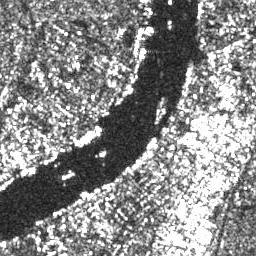ship: (75, 127, 103, 148), (146, 134, 158, 151), (62, 167, 76, 181), (139, 44, 147, 62), (144, 24, 156, 33), (166, 18, 174, 30), (143, 29, 152, 38)
